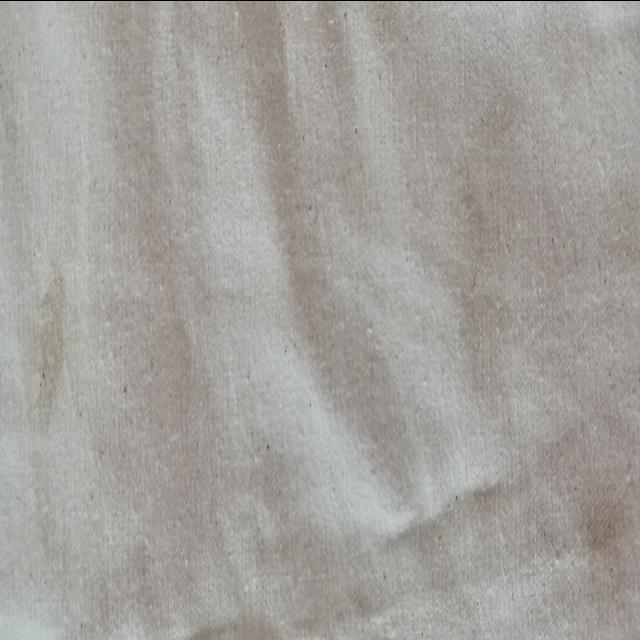taaaches: (26, 239, 80, 445)
